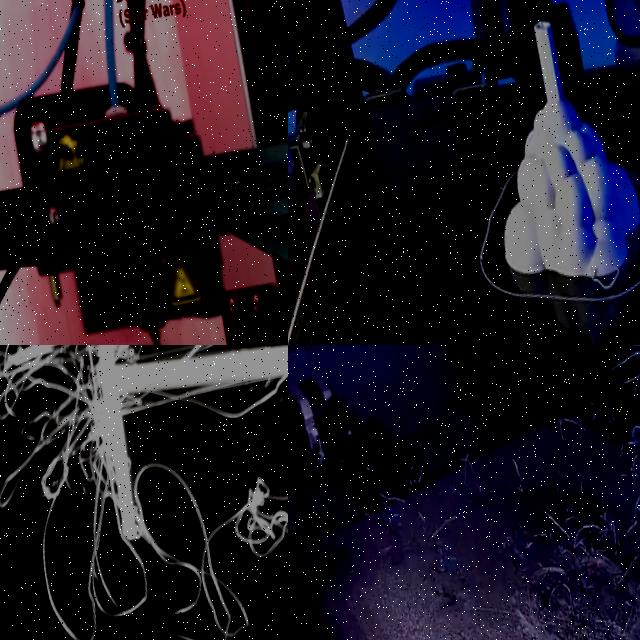spaghetti: (142, 426, 288, 640), (556, 490, 627, 564), (358, 471, 416, 546), (446, 439, 496, 522), (538, 564, 595, 634), (427, 532, 467, 599), (549, 396, 593, 452), (501, 520, 541, 570), (500, 447, 532, 502), (587, 388, 620, 433)
